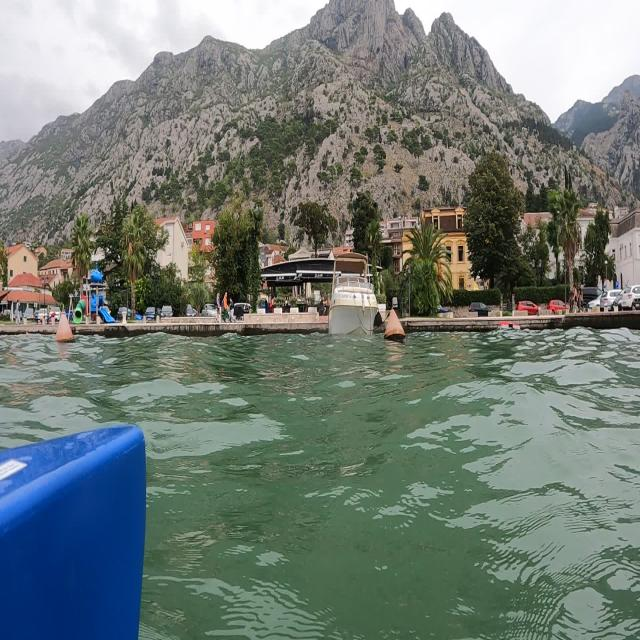boat: (326, 246, 380, 338)
buoy: (385, 301, 407, 351), (54, 305, 76, 348)
